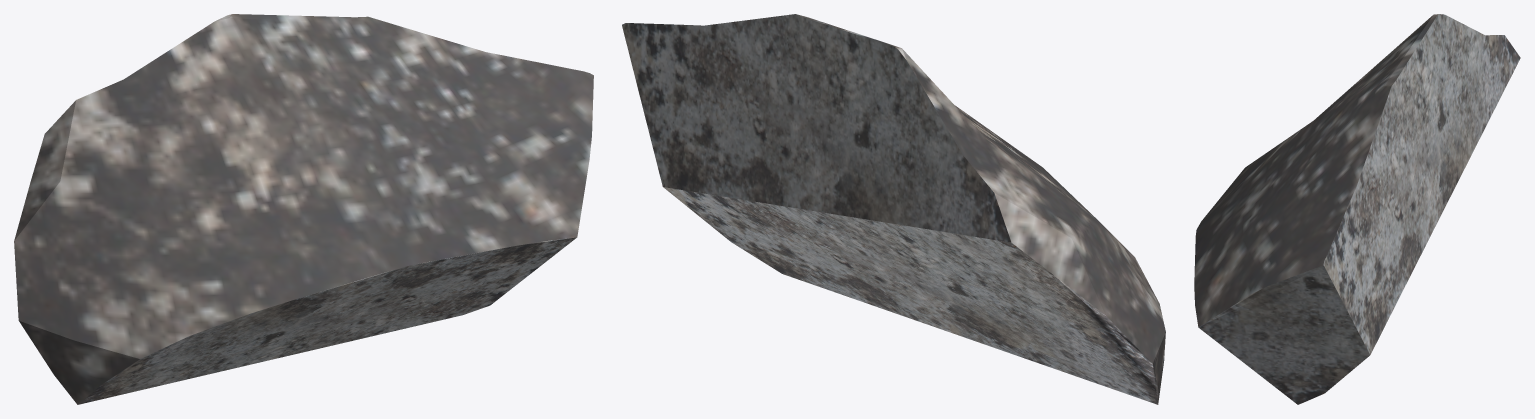
The model's file is Asteroid_Medium_001_02_002_03_004.fbx.
3 views of the same model, side by side, from view 1: azimuth 30°, elevation 25°; view 2: azimuth 150°, elevation 25°; view 3: azimuth 270°, elevation 25° (orthographic). The views are drawn at different scales.
Visible parts, largest first — view 1: Asteroid_Medium_001_02_002_03_004; view 2: Asteroid_Medium_001_02_002_03_004; view 3: Asteroid_Medium_001_02_002_03_004.
Part boxes in pixels (x1,y1,x2,y2): Asteroid_Medium_001_02_002_03_004: [14, 14, 593, 404]; Asteroid_Medium_001_02_002_03_004: [622, 14, 1165, 404]; Asteroid_Medium_001_02_002_03_004: [1194, 14, 1520, 404].
Bounding box in the file's own units: 16.57 × 9.28 × 8.61.
